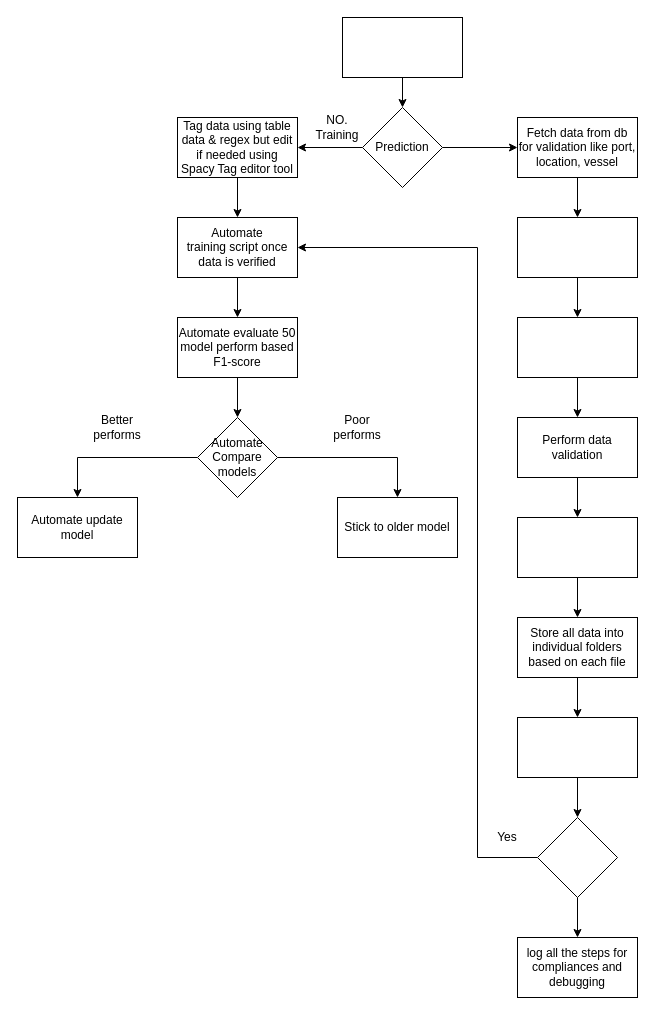
This 655x1015 diagram has some shape labels left out. Here are the shapes that lost their labels. From the top down, the box of each, then its label:
(342, 16, 462, 78): Abbey OCR
(516, 216, 638, 278): Identify pages for specific operations
(516, 316, 638, 378): Perform extraction using spacy, regex
(516, 516, 638, 578): Summerize data & store in db then generate excel file
(516, 716, 638, 778): Validate data extracted from user and provide option of editing
(536, 816, 618, 898): Edited file
